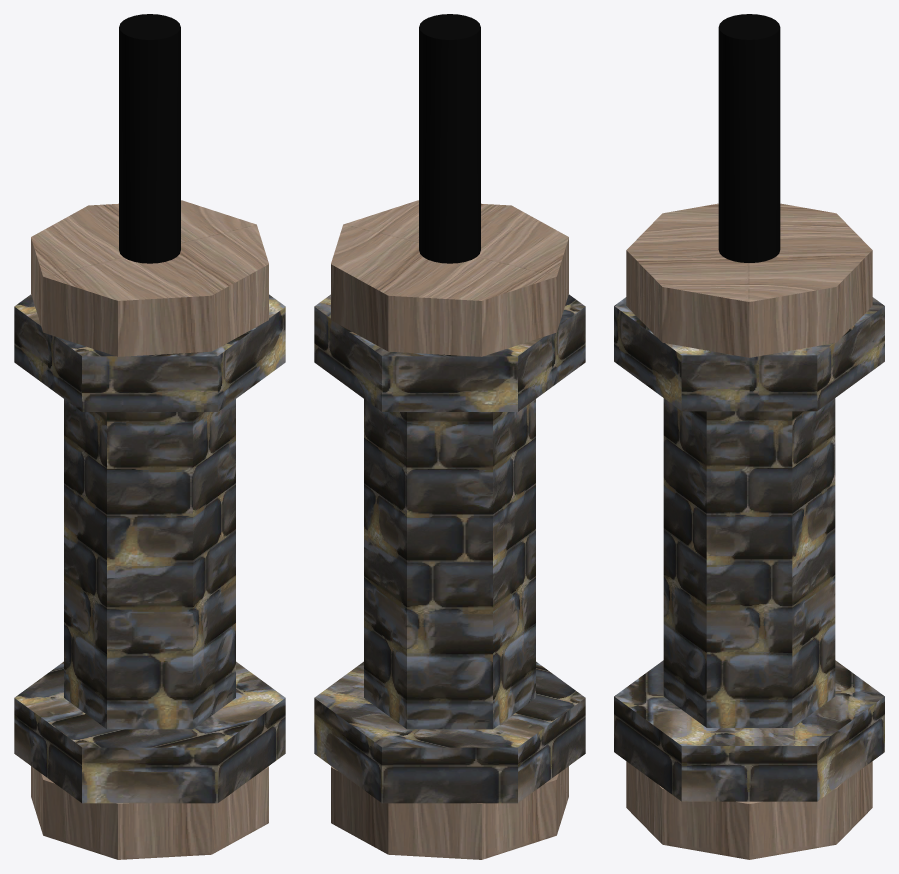
Rendered from Pipebomb.obj.
The picture shows the model from 3 angles, left to right: view 1: azimuth 30°, elevation 25°; view 2: azimuth 150°, elevation 25°; view 3: azimuth 270°, elevation 25°; orthographic projection.
Size of the model in its own units: 0.4 by 1.4 by 0.44.
3 materials, 2 textured.
